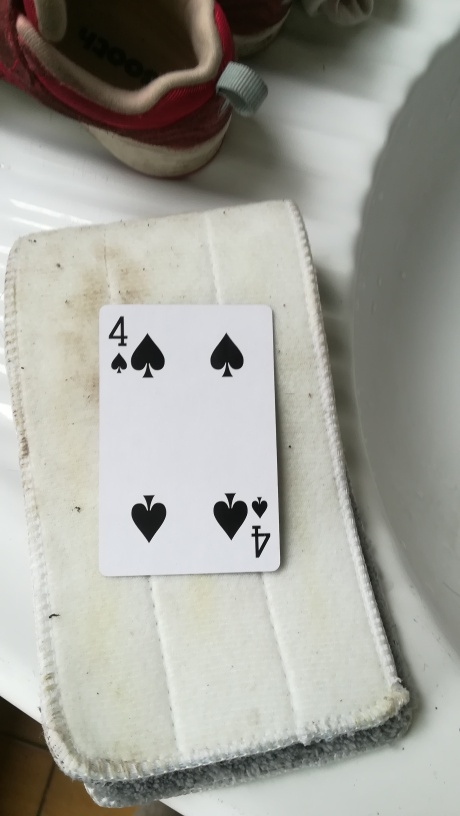ht 4: (92, 295, 284, 590)
